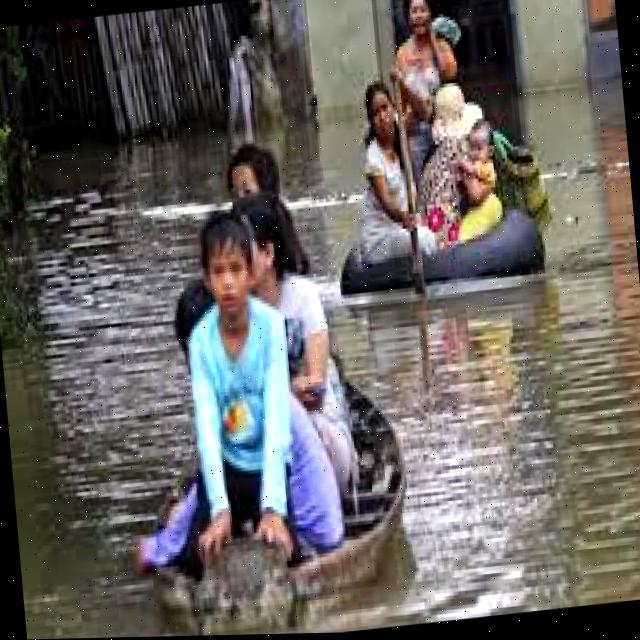civilian: (173, 203, 342, 573), (220, 187, 365, 462), (333, 77, 431, 289), (224, 135, 320, 304), (416, 79, 506, 259), (372, 0, 459, 145), (452, 113, 516, 201)
